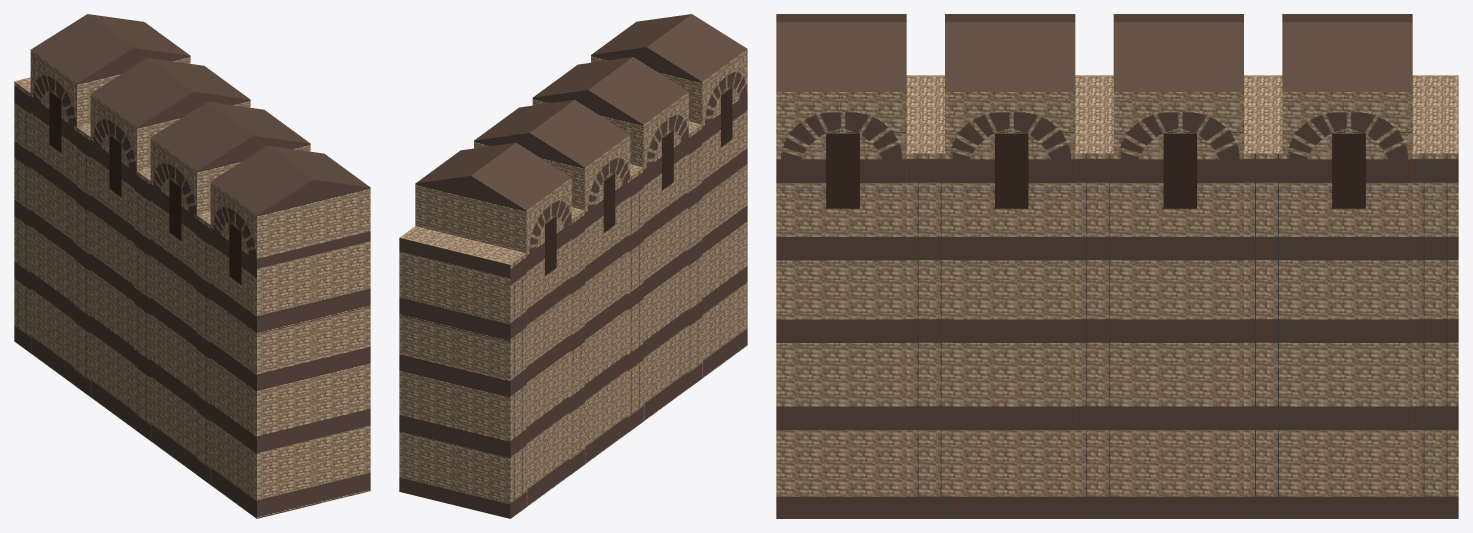
Rendered from Persian_Wall.fbx.
3 renders of one model, left to right at view 1: azimuth 30°, elevation 25°; view 2: azimuth 150°, elevation 25°; view 3: azimuth 270°, elevation 25°, orthographic. The views are drawn at different scales.
Visible parts, largest first — view 1: Cube_002; view 2: Cube_002; view 3: Cube_002.
Part boxes in pixels (box(x1,y1,x2,y2)): Cube_002: box(14, 14, 370, 518); Cube_002: box(399, 14, 747, 518); Cube_002: box(776, 14, 1458, 518).
Size of the model in its own units: 0.745 by 2.03 by 2.75.
Materials: 1 (1 with a texture image).
